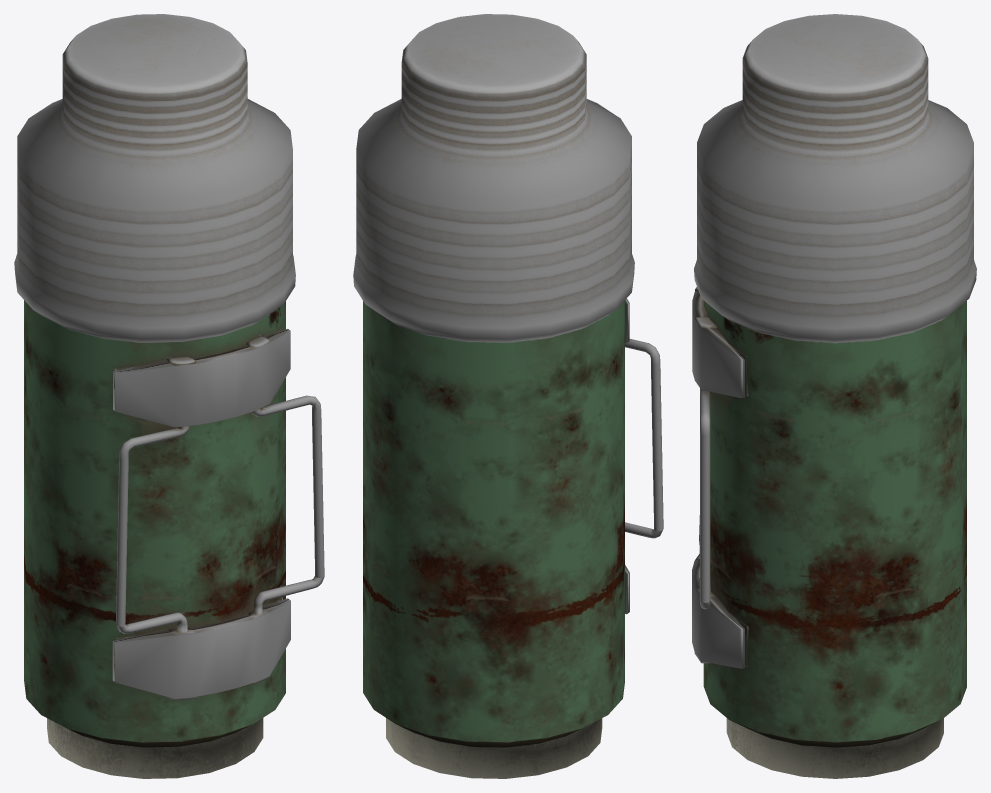
File: low_poly_thermos.glb
3 renders of one model, left to right at view 1: azimuth 30°, elevation 25°; view 2: azimuth 150°, elevation 25°; view 3: azimuth 270°, elevation 25°, orthographic.
Parts seen in each view (by area): view 1: thermos_low; view 2: thermos_low; view 3: thermos_low.
Boxes of the visible parts, x1,y1,x2,y2 form: thermos_low: (14, 14, 324, 778); thermos_low: (353, 14, 663, 778); thermos_low: (692, 14, 976, 778).
Size of the model in its own units: 0.7516 by 2 by 0.7566.
Materials: 1 (1 with a texture image).
